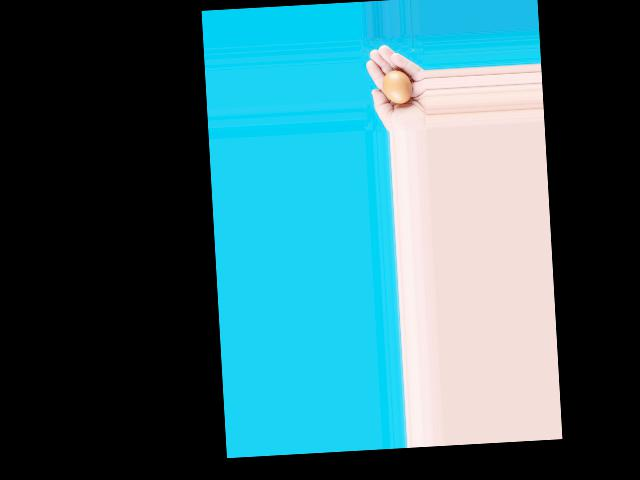egg: (382, 68, 412, 104)
